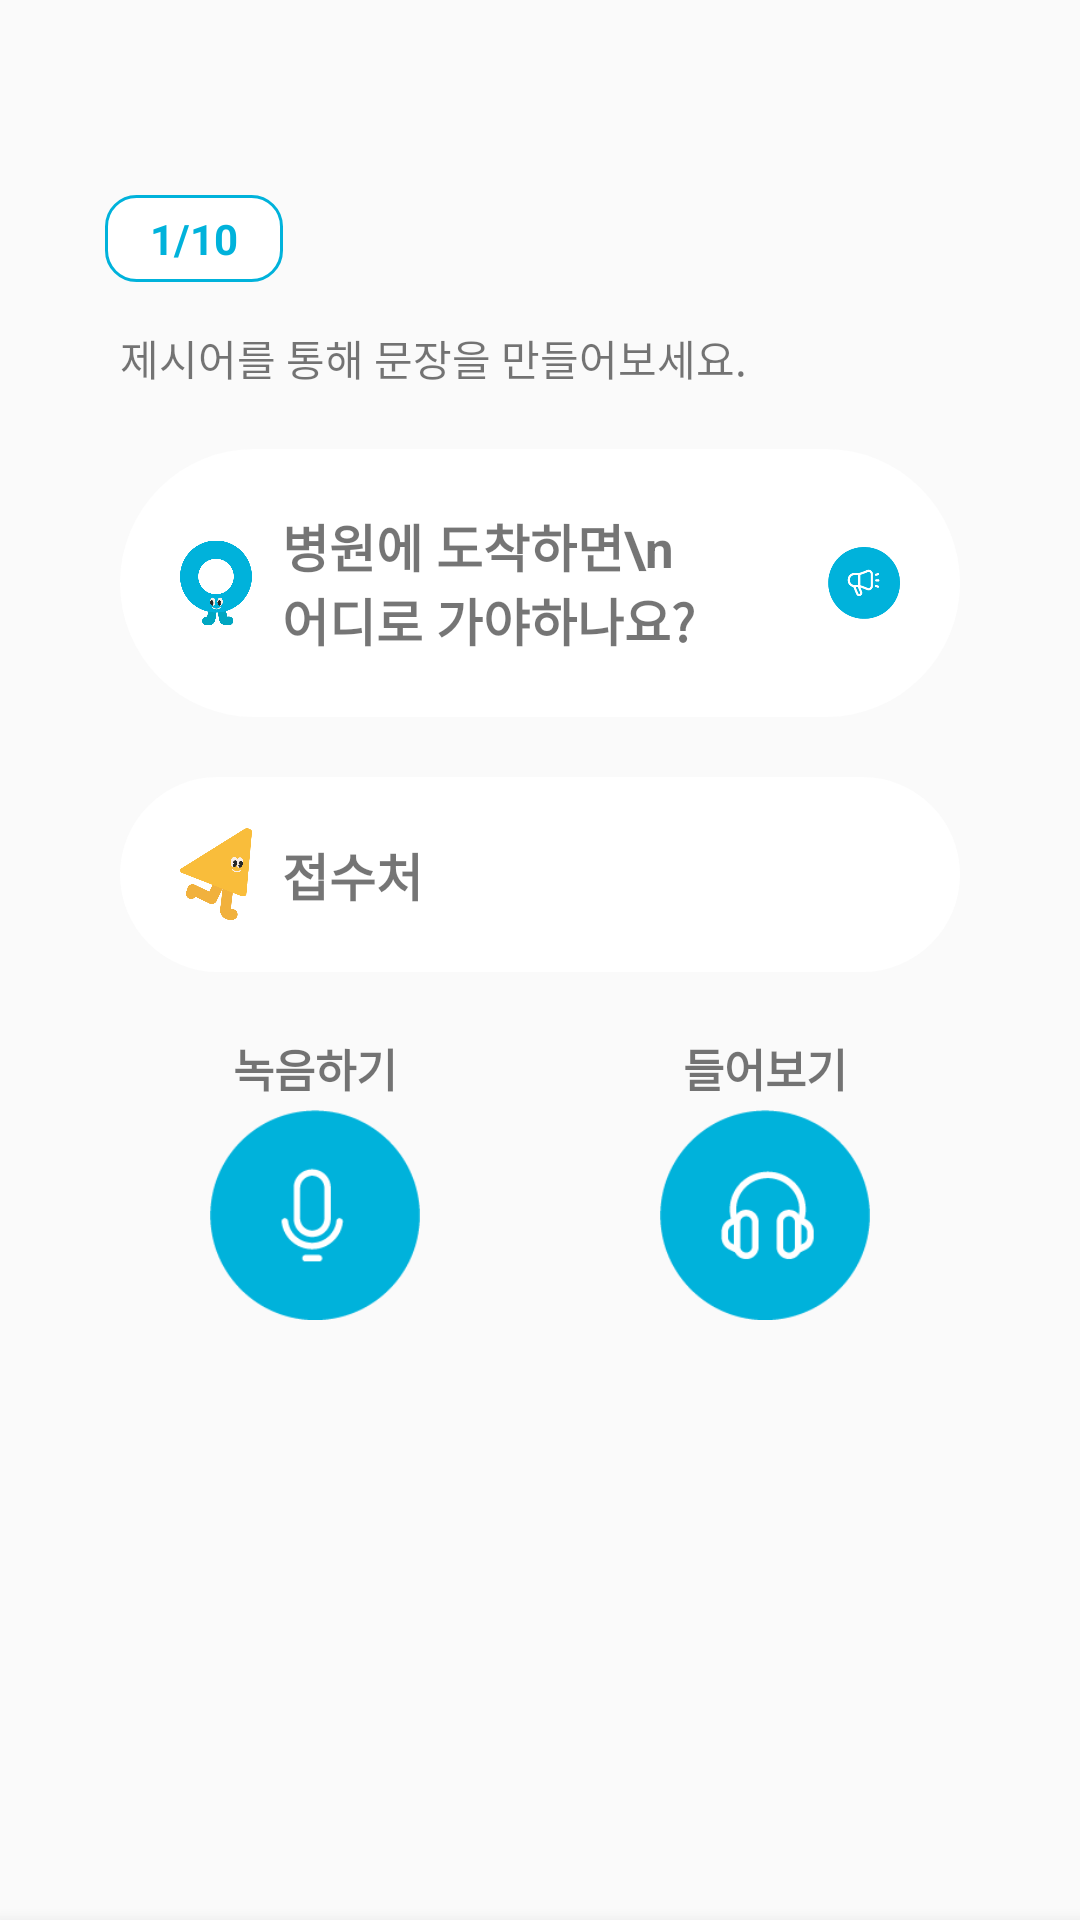

Named icons in this screenshot (1080*1920) and their centers, [x,y]:
audio start: [864,583]
